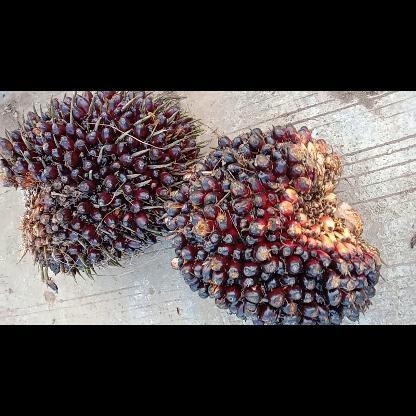TBS mentah: (165, 124, 381, 324), (0, 91, 200, 275)
